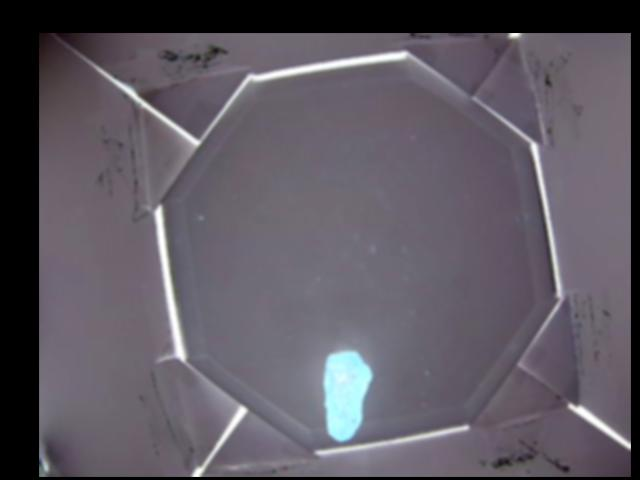Brisk: (323, 351, 371, 440)
